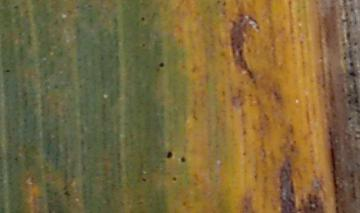tarspot: (347, 70, 358, 79), (165, 150, 173, 160), (61, 189, 71, 197), (169, 175, 177, 183), (139, 41, 146, 50), (139, 14, 146, 23), (179, 155, 186, 163), (158, 60, 165, 68), (348, 60, 355, 68), (11, 156, 20, 162), (140, 176, 146, 184), (4, 68, 13, 73), (347, 115, 353, 121)
